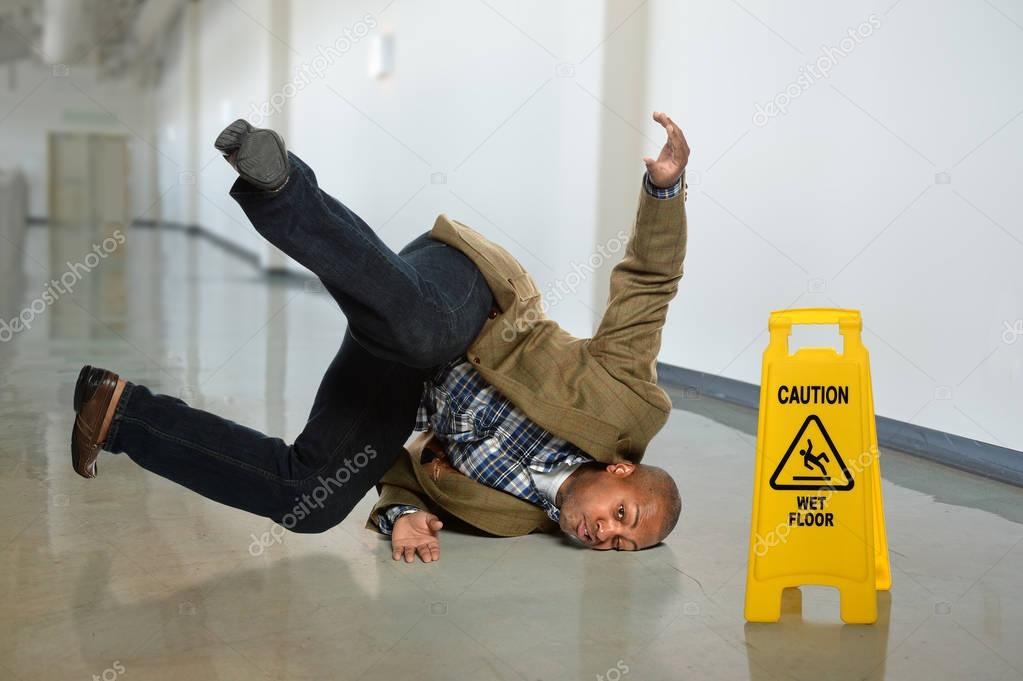wet caution sign: (739, 292, 893, 641)
